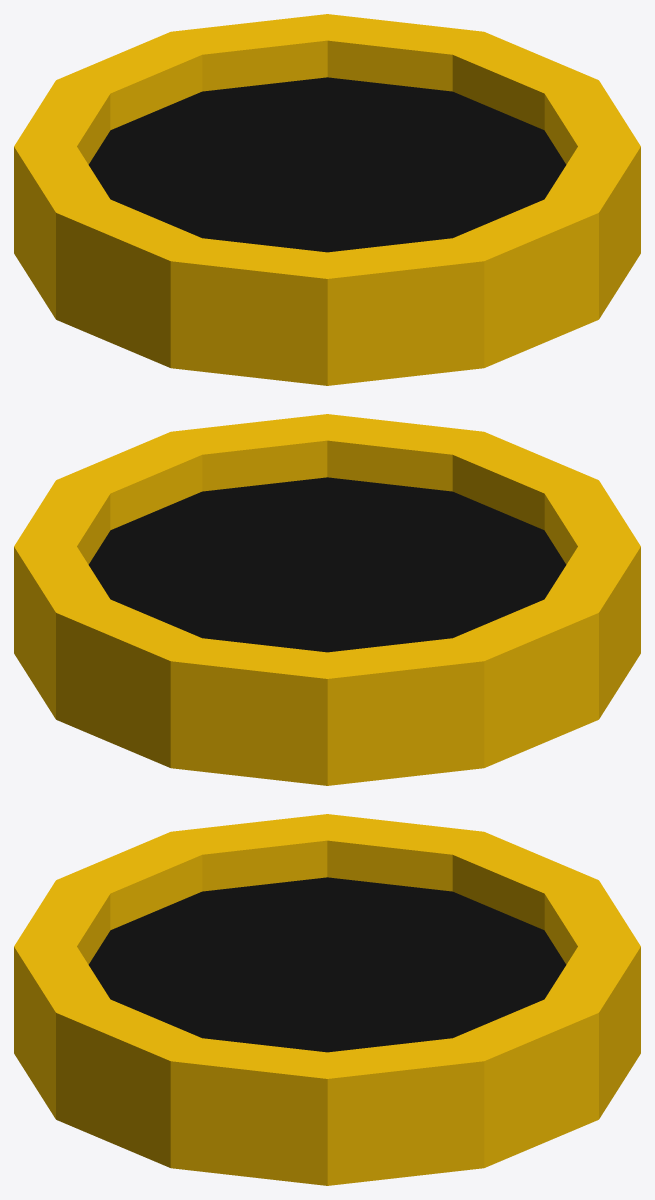
The model's file is ST_hole.fbx.
3 views of the same model, one above another, from view 1: azimuth 30°, elevation 25°; view 2: azimuth 150°, elevation 25°; view 3: azimuth 270°, elevation 25° (orthographic).
Parts seen in each view (by area): view 1: hole; view 2: hole; view 3: hole.
Part boxes in pixels (<box>): hole: <box>14,14,640,385</box>; hole: <box>14,414,640,785</box>; hole: <box>14,814,640,1185</box>.
Size of the model in its own units: 2.4 by 0.4519 by 2.4.
Materials: 1 (1 with a texture image).
